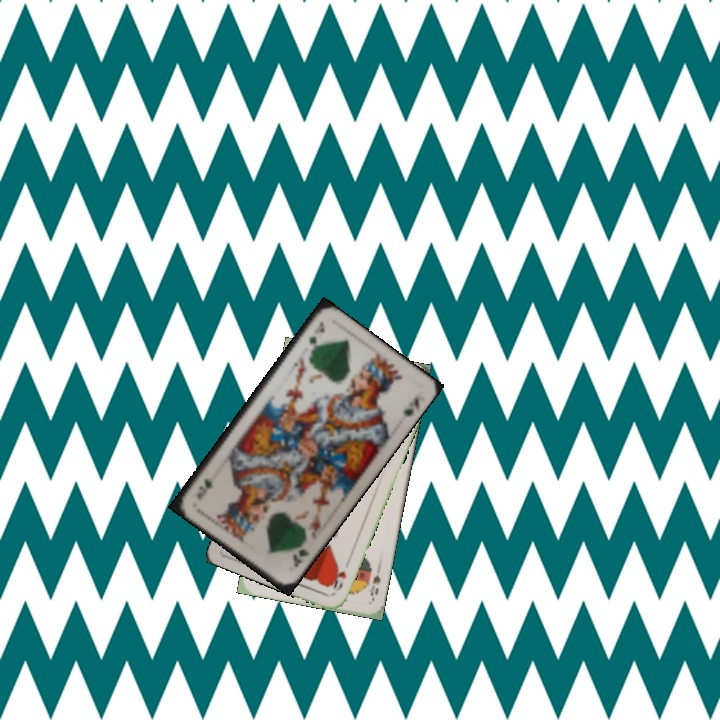GK: (304, 318, 328, 347), (289, 545, 312, 570)
HO: (327, 562, 349, 594)
SO: (365, 571, 383, 599)
